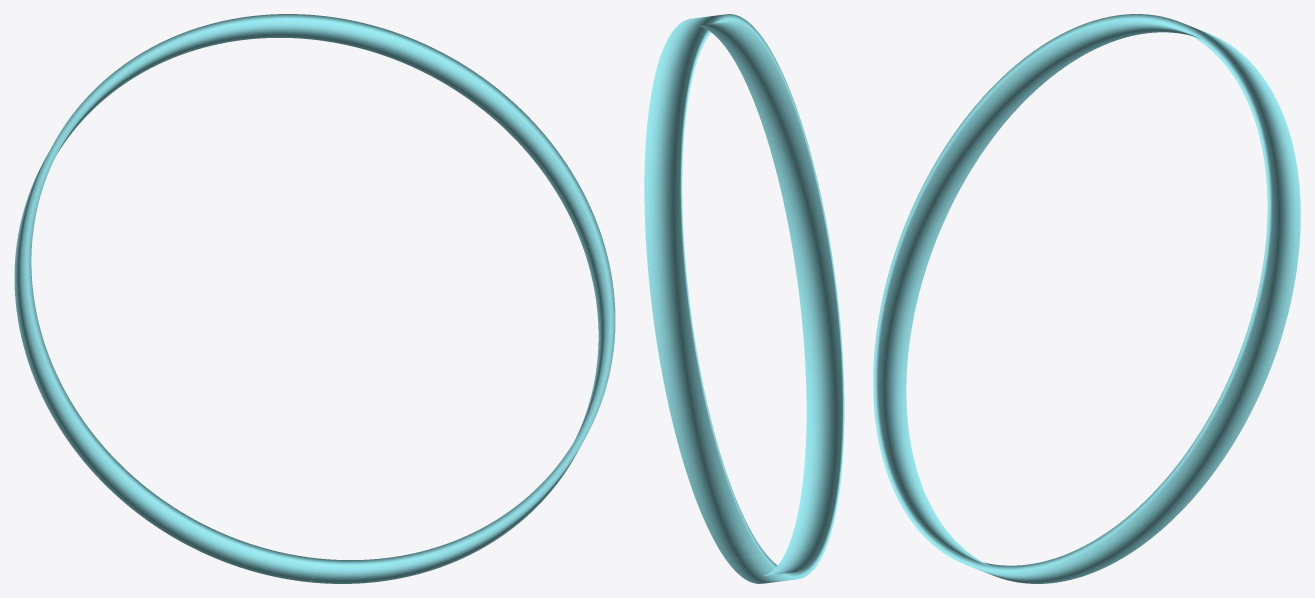
Rendered from coil_coil_7_tube.gltf.
3 views of the same model, side by side, from view 1: azimuth 30°, elevation 25°; view 2: azimuth 150°, elevation 25°; view 3: azimuth 270°, elevation 25° (orthographic). The views are drawn at different scales.
Visible parts, largest first — view 1: Renderer Node; view 2: Renderer Node; view 3: Renderer Node.
Part boxes in pixels (bbox=[...]): Renderer Node: bbox=[14, 14, 615, 583]; Renderer Node: bbox=[644, 14, 844, 583]; Renderer Node: bbox=[873, 14, 1300, 583].
Bounding box in the file's own units: 0.4704 × 0.6081 × 0.4456.
